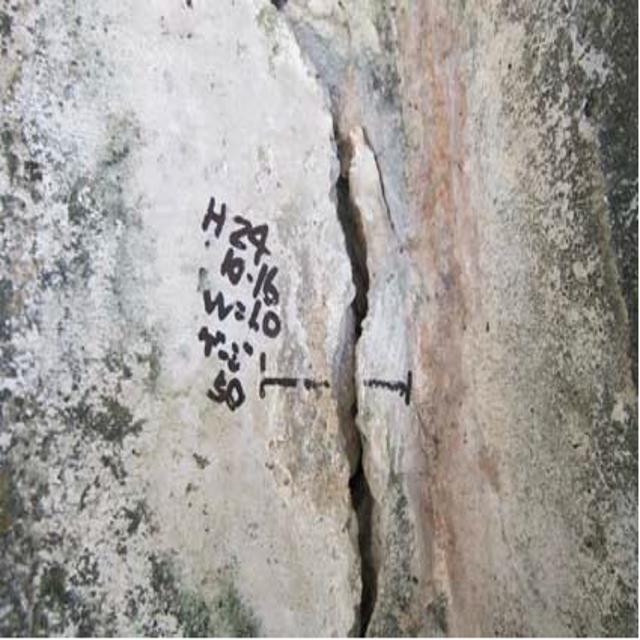crack: (312, 85, 400, 640)
